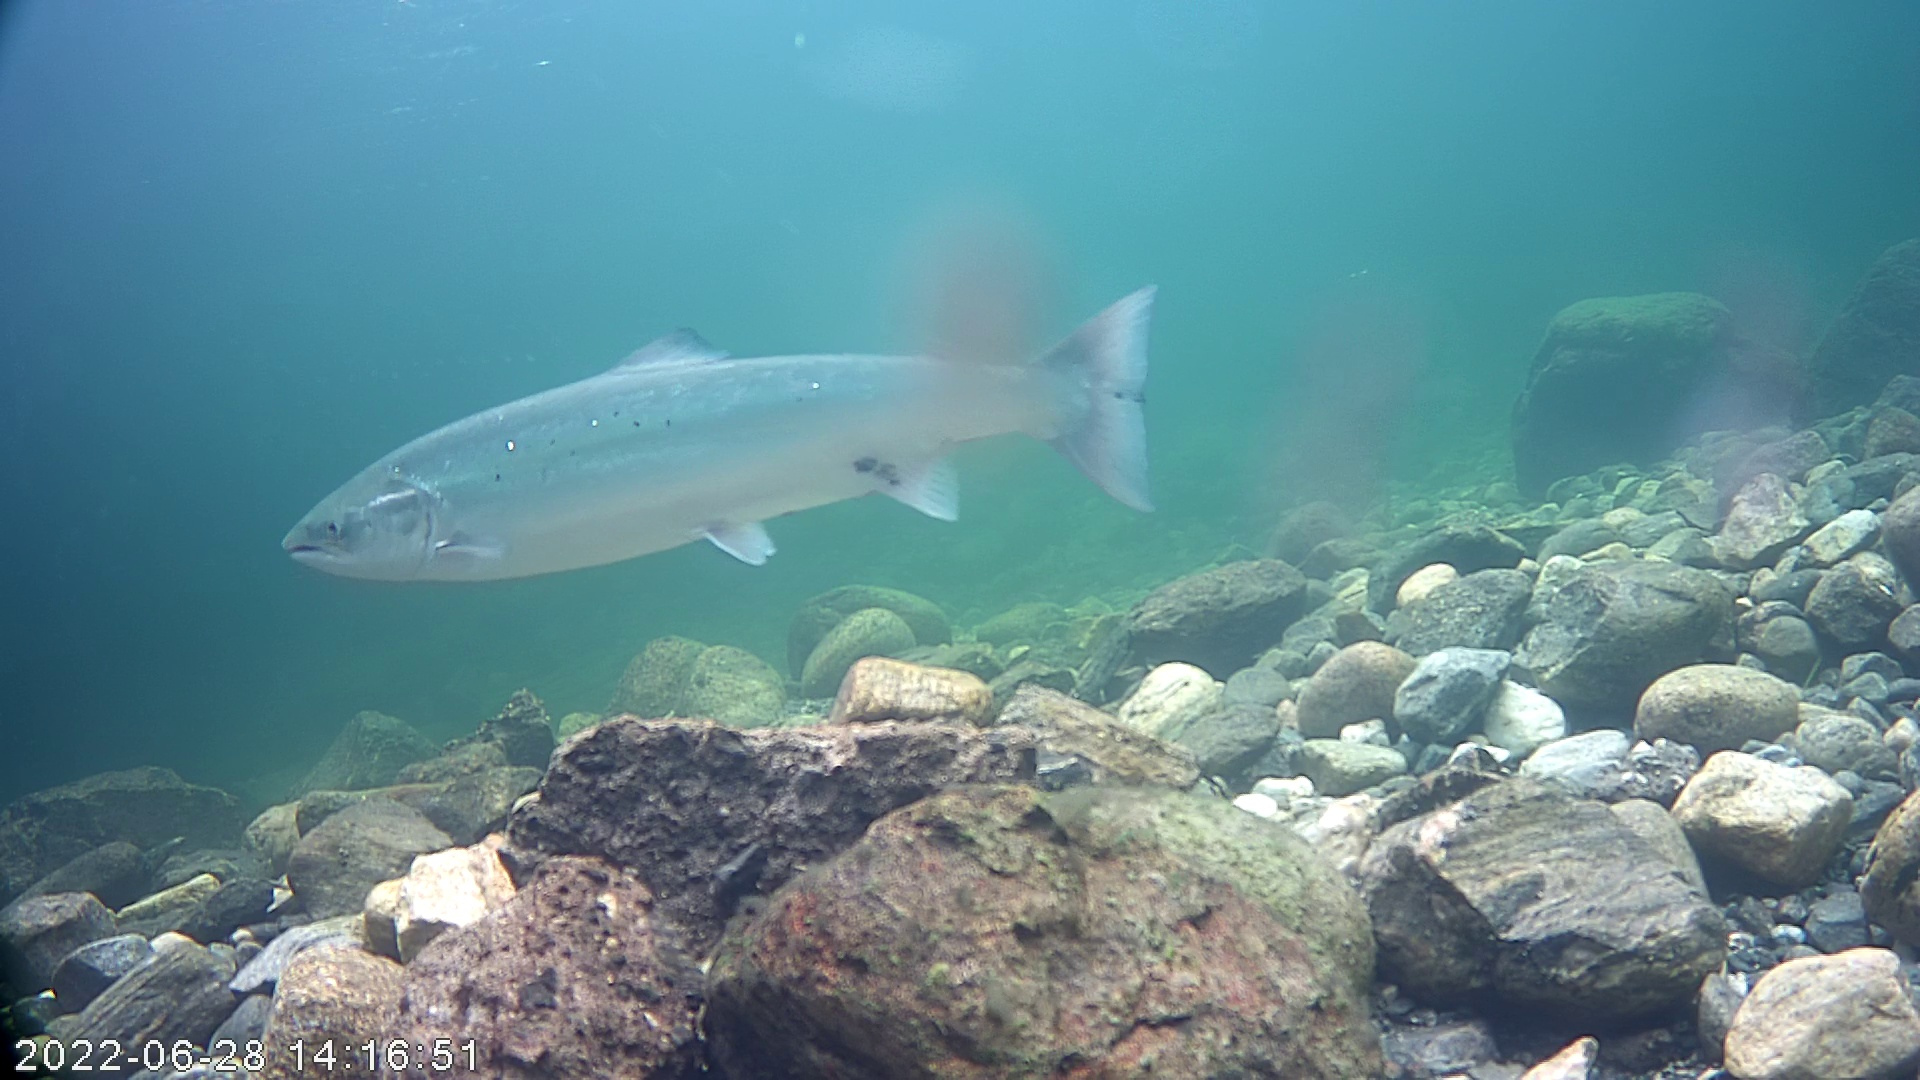salmon: (265, 222, 1174, 621)
